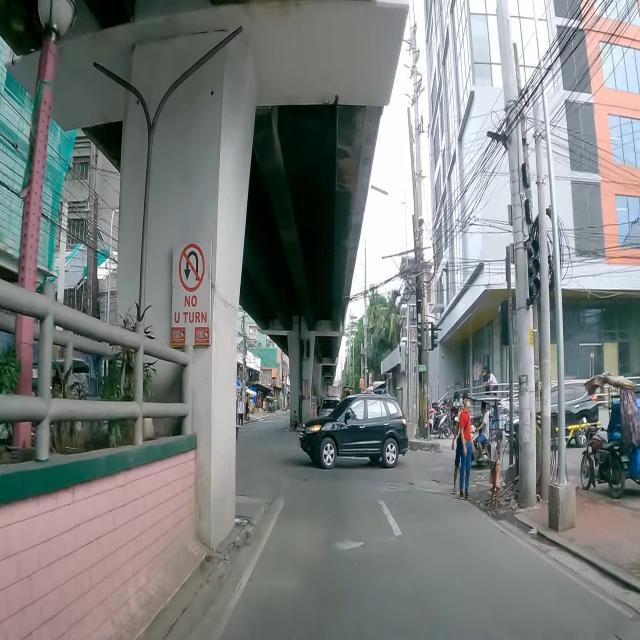car: (300, 393, 408, 469), (504, 380, 600, 446), (318, 395, 341, 418)
motorcycle: (430, 410, 452, 438), (452, 404, 458, 433)
tricycle: (580, 373, 640, 498), (471, 398, 502, 466)
truck: (328, 385, 341, 395)
